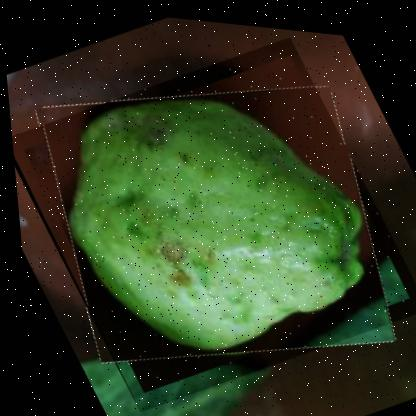guava: (0, 5, 415, 415)
